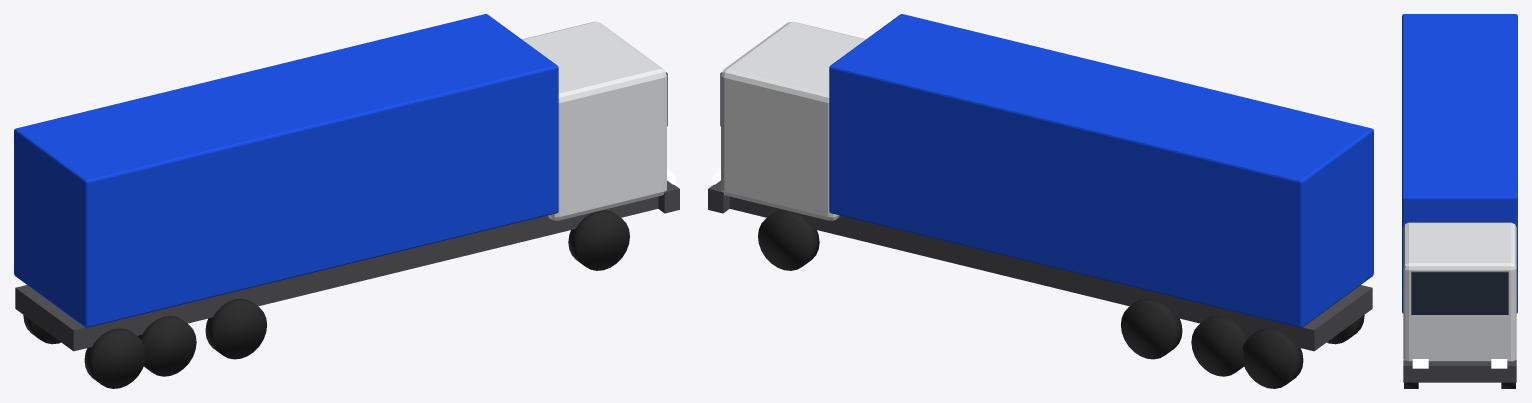
File: truck.glb
3 views of the same model, side by side, from view 1: azimuth 30°, elevation 25°; view 2: azimuth 150°, elevation 25°; view 3: azimuth 270°, elevation 25° (orthographic). The views are drawn at different scales.
Visible parts, largest first — view 1: KONE truck; view 2: KONE truck; view 3: KONE truck.
Boxes of the visible parts, <box> form: KONE truck: <box>14,14,679,388</box>; KONE truck: <box>708,14,1373,388</box>; KONE truck: <box>1402,14,1517,388</box>.
Size of the model in its own units: 11.94 by 4.1 by 2.5.
